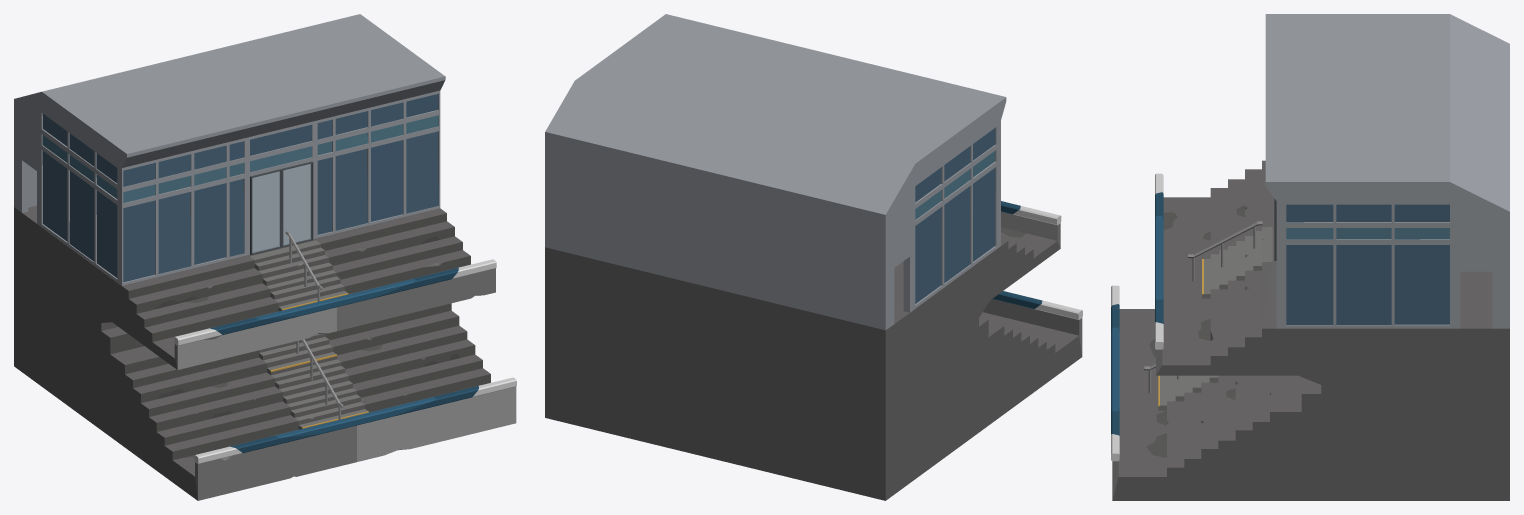
File: vip_box.glb
3 renders of one model, left to right at view 1: azimuth 30°, elevation 25°; view 2: azimuth 150°, elevation 25°; view 3: azimuth 270°, elevation 25°, orthographic. The views are drawn at different scales.
Parts seen in each view (by area): view 1: SM_Bld_Grandstand_VIP_01, SM_Bld_Grandstand_VIP_01_Glass, SM_Bld_Grandstand_VIP_01_Door_01_Glass, SM_Bld_Grandstand_VIP_01_Door_02_Glass, SM_Bld_Grandstand_VIP_01_Door_01, SM_Bld_Grandstand_VIP_01_Door_02; view 2: SM_Bld_Grandstand_VIP_01, SM_Bld_Grandstand_VIP_01_Glass; view 3: SM_Bld_Grandstand_VIP_01, SM_Bld_Grandstand_VIP_01_Glass.
Boxes of the visible parts, x1=… form: SM_Bld_Grandstand_VIP_01: x1=14, y1=14, x2=516, y2=500; SM_Bld_Grandstand_VIP_01_Glass: x1=42, y1=94, x2=438, y2=282; SM_Bld_Grandstand_VIP_01_Door_01_Glass: x1=252, y1=171, x2=280, y2=252; SM_Bld_Grandstand_VIP_01_Door_02_Glass: x1=283, y1=163, x2=311, y2=245; SM_Bld_Grandstand_VIP_01_Door_01: x1=250, y1=169, x2=282, y2=255; SM_Bld_Grandstand_VIP_01_Door_02: x1=281, y1=161, x2=313, y2=247; SM_Bld_Grandstand_VIP_01: x1=545, y1=14, x2=1082, y2=500; SM_Bld_Grandstand_VIP_01_Glass: x1=915, y1=128, x2=995, y2=303; SM_Bld_Grandstand_VIP_01: x1=1111, y1=14, x2=1509, y2=500; SM_Bld_Grandstand_VIP_01_Glass: x1=1286, y1=204, x2=1449, y2=324.
Bounding box in the file's own units: 12.5 × 11.07 × 12.54.
Materials: 3 (2 with a texture image).
